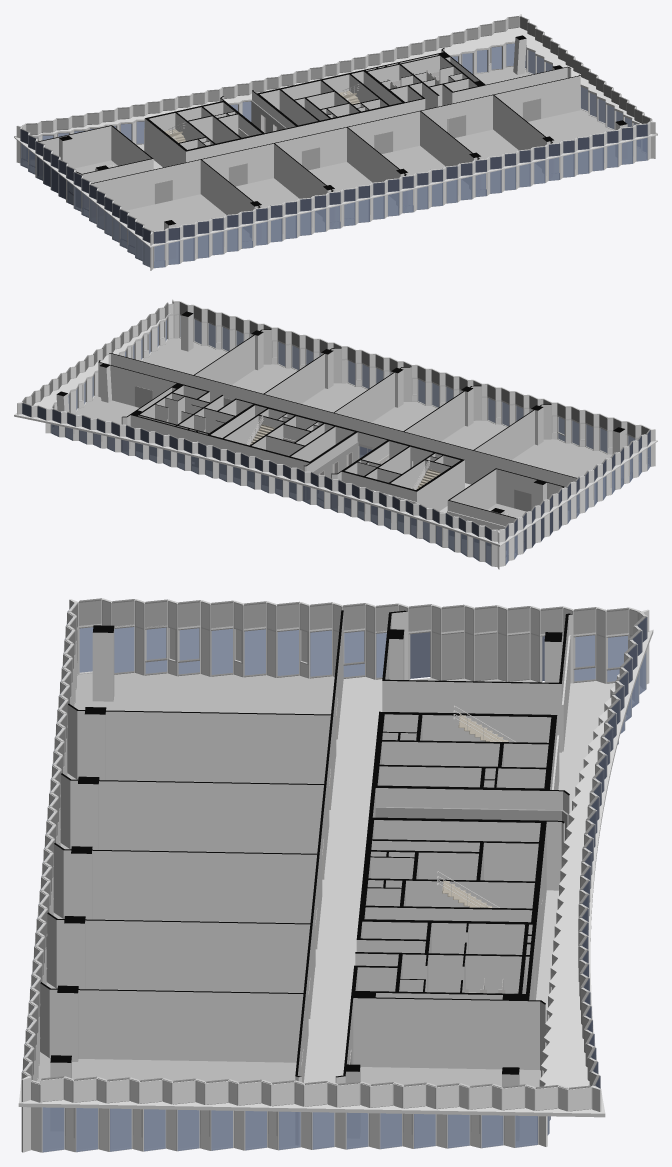
3 renders of one model, top to bottom at view 1: azimuth 30°, elevation 25°; view 2: azimuth 150°, elevation 25°; view 3: azimuth 270°, elevation 25°, orthographic. The views are drawn at different scales.
Visible parts, largest first — view 1: A5-6F_Wall, A5-6F_GlassFrame, A5-6F_Glass, A5-6F_Floor, A5-6F_Exterior, A5-6F_Pillar, A5-6F_Door, A5-6F_Wall2, A5-6F_Stairs; view 2: A5-6F_Wall, A5-6F_GlassFrame, A5-6F_Glass, A5-6F_Floor, A5-6F_Exterior, A5-6F_Pillar, A5-6F_Door, A5-6F_Wall3, A5-6F_Stairs, A5-6F_Wall2; view 3: A5-6F_Wall, A5-6F_GlassFrame, A5-6F_Floor, A5-6F_Glass, A5-6F_Exterior, A5-6F_Pillar, A5-6F_Wall2, A5-6F_Stairs, A5-6F_Wall3.
Boxes of the visible parts, <box> form: A5-6F_Wall: <box>38,48,580,242</box>; A5-6F_GlassFrame: <box>20,16,652,268</box>; A5-6F_Glass: <box>20,43,647,267</box>; A5-6F_Floor: <box>23,66,645,266</box>; A5-6F_Exterior: <box>14,14,657,270</box>; A5-6F_Pillar: <box>59,35,627,258</box>; A5-6F_Door: <box>154,98,541,204</box>; A5-6F_Wall2: <box>251,100,286,132</box>; A5-6F_Stairs: <box>165,84,359,142</box>; A5-6F_Wall: <box>98,329,577,526</box>; A5-6F_GlassFrame: <box>21,301,650,566</box>; A5-6F_Glass: <box>22,316,650,565</box>; A5-6F_Floor: <box>53,338,639,562</box>; A5-6F_Exterior: <box>14,299,657,569</box>; A5-6F_Pillar: <box>56,311,625,514</box>; A5-6F_Door: <box>134,386,531,511</box>; A5-6F_Wall3: <box>345,487,515,552</box>; A5-6F_Stairs: <box>244,414,440,489</box>; A5-6F_Wall2: <box>307,441,358,499</box>; A5-6F_Wall: <box>40,610,572,1144</box>; A5-6F_GlassFrame: <box>21,598,647,1152</box>; A5-6F_Floor: <box>37,672,641,1152</box>; A5-6F_Glass: <box>22,604,647,1152</box>; A5-6F_Exterior: <box>18,599,653,1152</box>; A5-6F_Pillar: <box>50,625,562,1140</box>; A5-6F_Wall2: <box>375,807,568,840</box>; A5-6F_Stairs: <box>437,705,515,907</box>; A5-6F_Wall3: <box>552,635,572,789</box>.
Bounding box in the file's own units: 61.7 × 5.37 × 33.45.
